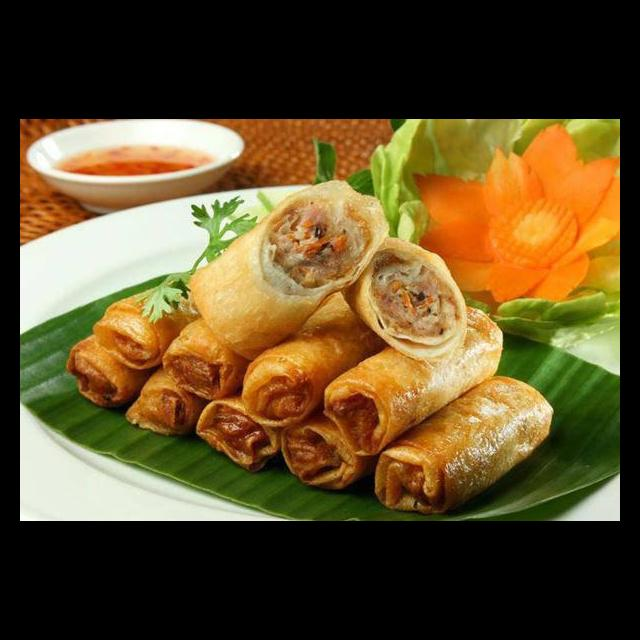cha gio: (184, 176, 395, 365), (319, 299, 509, 461), (369, 371, 559, 518), (236, 280, 399, 431), (330, 226, 472, 364), (90, 269, 211, 376), (157, 309, 283, 404), (193, 387, 287, 474), (272, 408, 369, 492), (63, 330, 158, 414), (123, 360, 206, 438)
